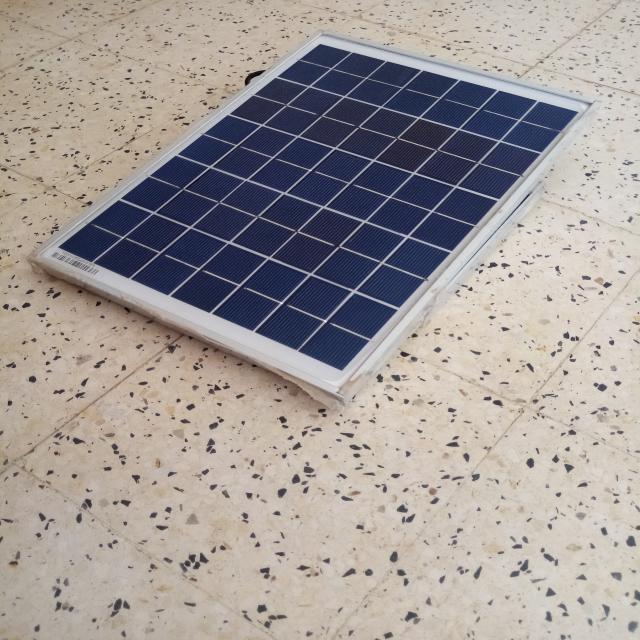no faulty: (33, 34, 603, 398)
